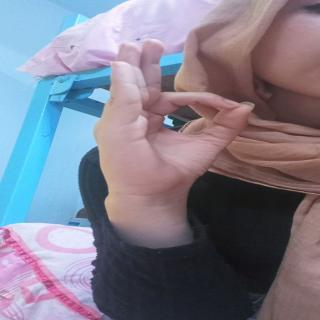Space: (78, 38, 257, 218)
